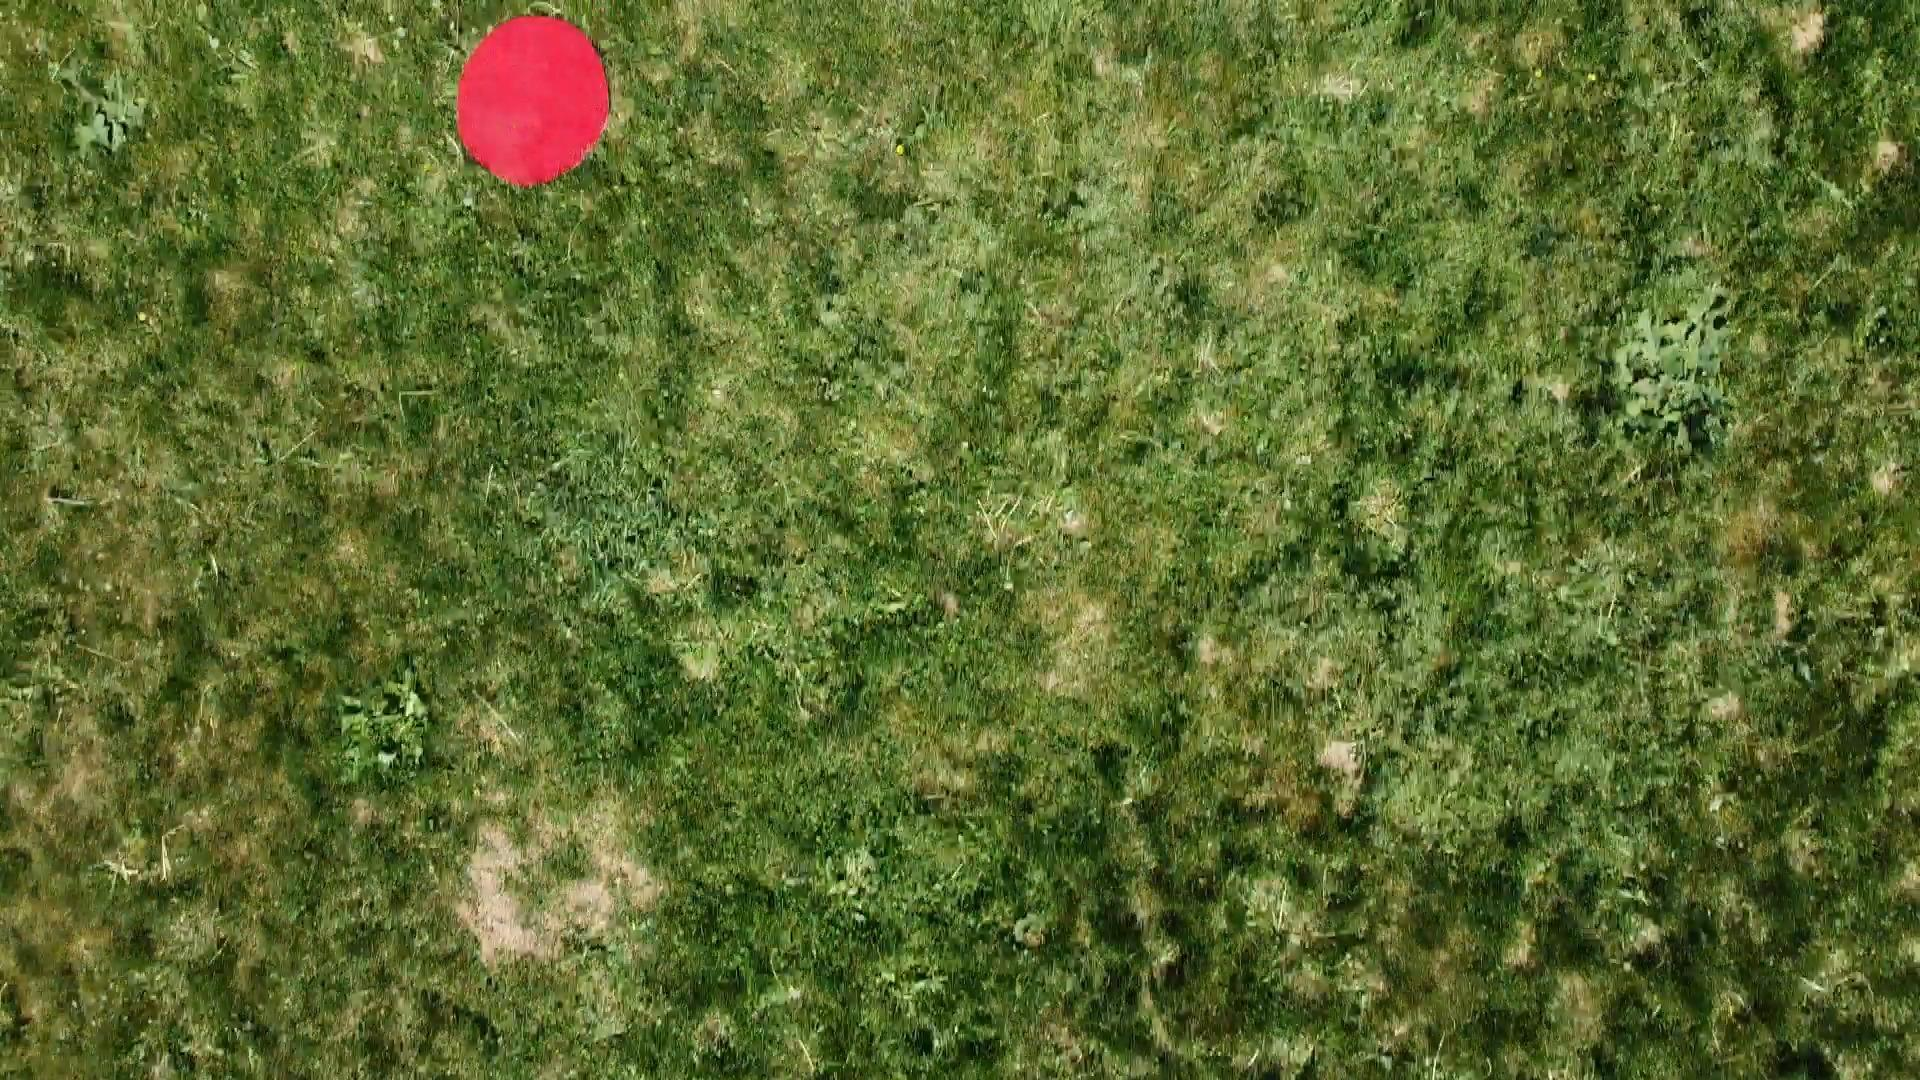Red: (452, 11, 620, 194)
